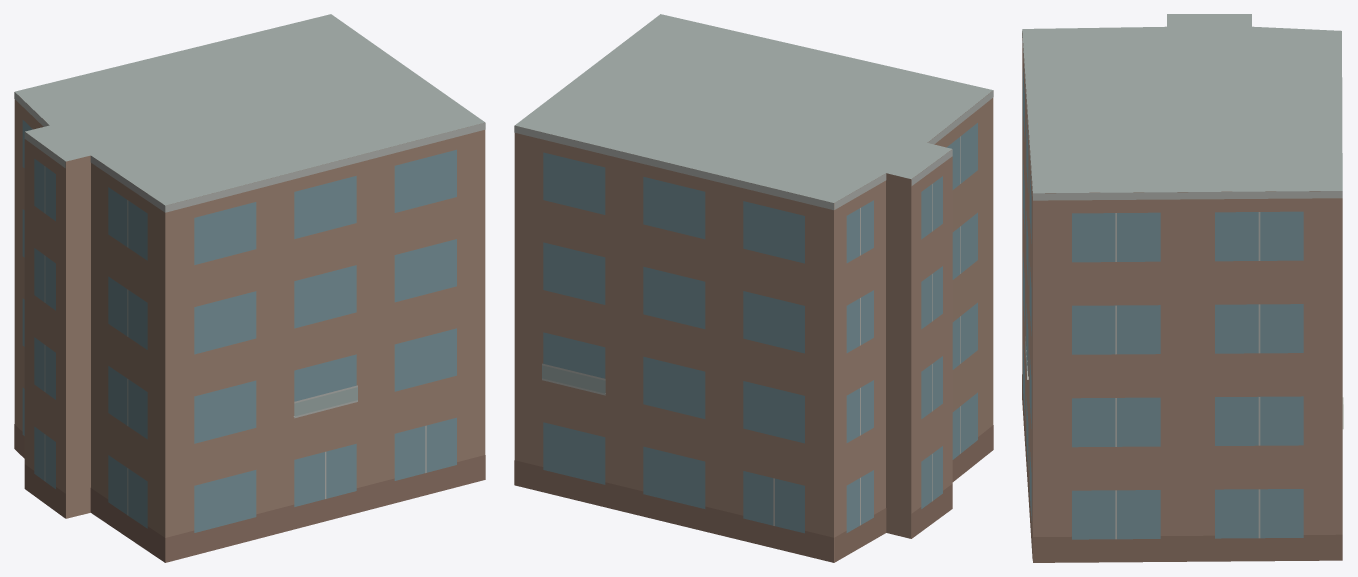
File: survey-upis-32979897.glb
3 renders of one model, left to right at view 1: azimuth 30°, elevation 25°; view 2: azimuth 150°, elevation 25°; view 3: azimuth 270°, elevation 25°, orthographic. The views are drawn at different scales.
Visible parts, largest first — view 1: survey-upis-32979897.tmp; view 2: survey-upis-32979897.tmp; view 3: survey-upis-32979897.tmp.
Part boxes in pixels (bbox=[...]): survey-upis-32979897.tmp: bbox=[14, 14, 485, 562]; survey-upis-32979897.tmp: bbox=[514, 14, 993, 562]; survey-upis-32979897.tmp: bbox=[1022, 14, 1343, 562].
Bounding box in the file's own units: 12.69 × 12.2 × 9.63.
